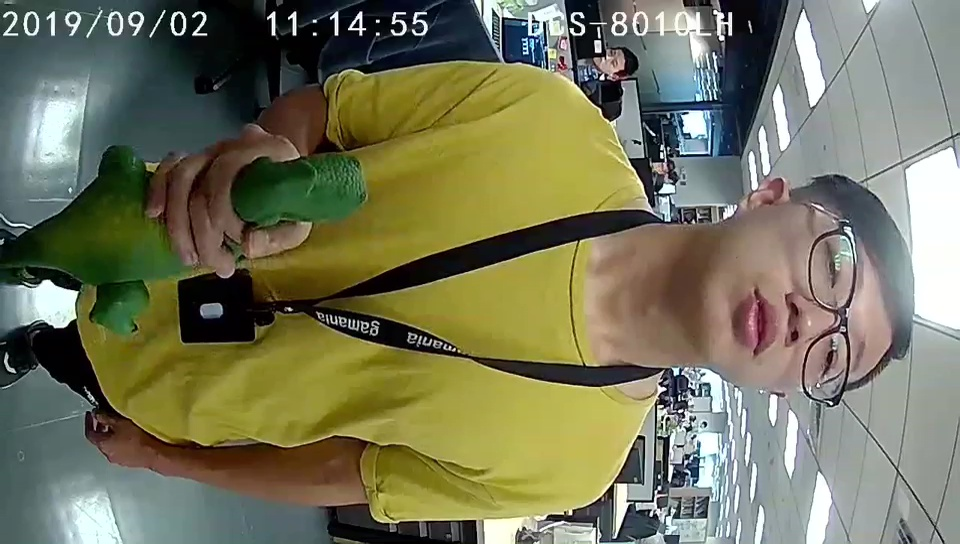rex: (75, 152, 364, 332)
